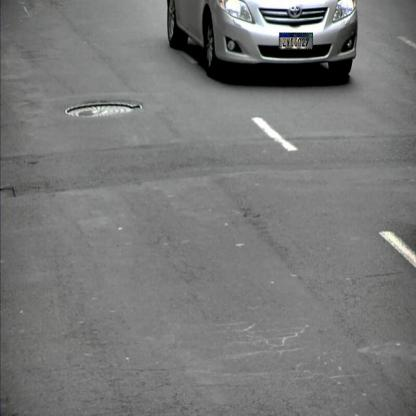PlacaM: (279, 33, 313, 49)
